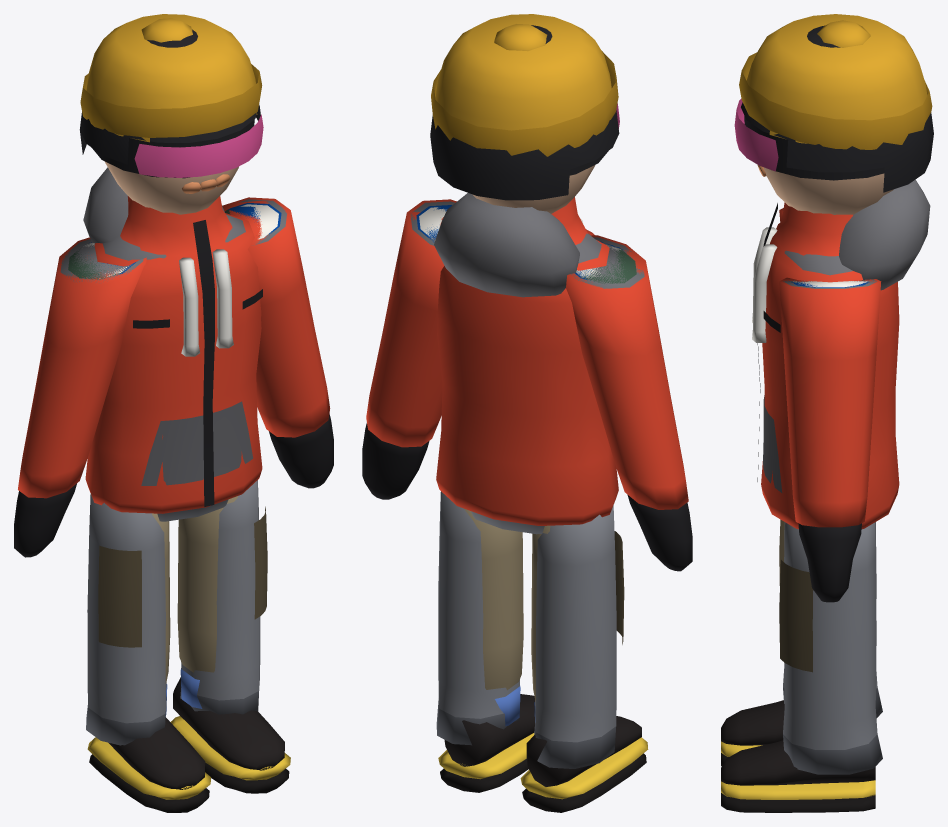
3 renders of one model, left to right at view 1: azimuth 30°, elevation 25°; view 2: azimuth 150°, elevation 25°; view 3: azimuth 270°, elevation 25°, orthographic. The views are drawn at different scales.
Visible parts, largest first — view 1: skiShell, skiPants, beanie, shoes, hoodie, cargo, helmet, body, tee, sweater, jeans; view 2: skiShell, skiPants, beanie, hoodie, shoes, cargo, helmet, body, sweater, tee, jeans; view 3: skiShell, beanie, skiPants, shoes, hoodie, helmet, body, cargo.
Boxes of the visible parts, x1=… form: skiShell: x1=14, y1=196, x2=333, y2=557; skiPants: x1=86, y1=480, x2=260, y2=745; beanie: x1=80, y1=14, x2=262, y2=142; shoes: x1=87, y1=677, x2=290, y2=812; hoodie: x1=60, y1=167, x2=286, y2=485; cargo: x1=98, y1=496, x2=267, y2=683; helmet: x1=79, y1=29, x2=263, y2=178; body: x1=104, y1=161, x2=238, y2=214; tee: x1=83, y1=204, x2=278, y2=278; sweater: x1=68, y1=209, x2=259, y2=279; jeans: x1=165, y1=668, x2=202, y2=716; skiShell: x1=362, y1=197, x2=692, y2=571; skiPants: x1=436, y1=491, x2=616, y2=768; beanie: x1=431, y1=14, x2=618, y2=156; hoodie: x1=411, y1=193, x2=644, y2=297; shoes: x1=438, y1=694, x2=648, y2=812; cargo: x1=464, y1=508, x2=624, y2=701; helmet: x1=430, y1=25, x2=619, y2=200; body: x1=472, y1=165, x2=595, y2=213; sweater: x1=578, y1=248, x2=636, y2=283; tee: x1=419, y1=207, x2=620, y2=278; jeans: x1=495, y1=686, x2=535, y2=726; skiShell: x1=757, y1=202, x2=899, y2=602; beanie: x1=739, y1=14, x2=932, y2=149; skiPants: x1=783, y1=522, x2=882, y2=774; shoes: x1=721, y1=700, x2=875, y2=812; hoodie: x1=752, y1=179, x2=930, y2=492; helmet: x1=734, y1=25, x2=933, y2=192; body: x1=763, y1=167, x2=893, y2=214; cargo: x1=779, y1=519, x2=813, y2=672.
Bounding box in the file's own units: 0.4104 × 0.9193 × 0.234.
